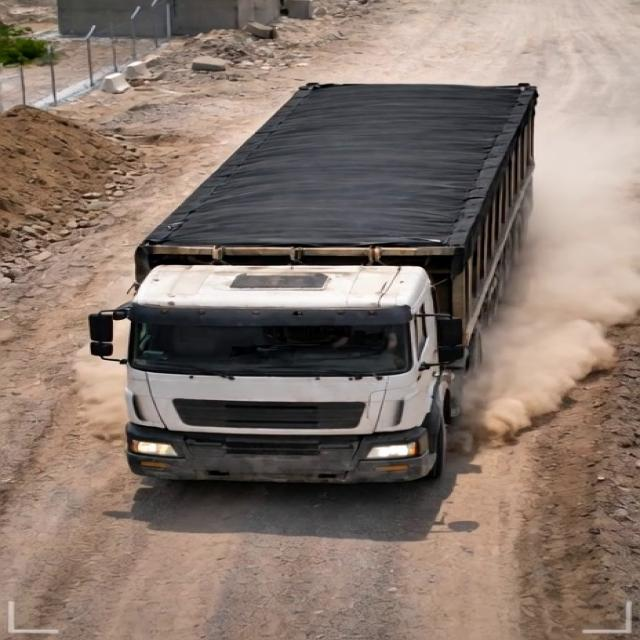trailer: (125, 82, 536, 258)
truck: (88, 70, 562, 495)
